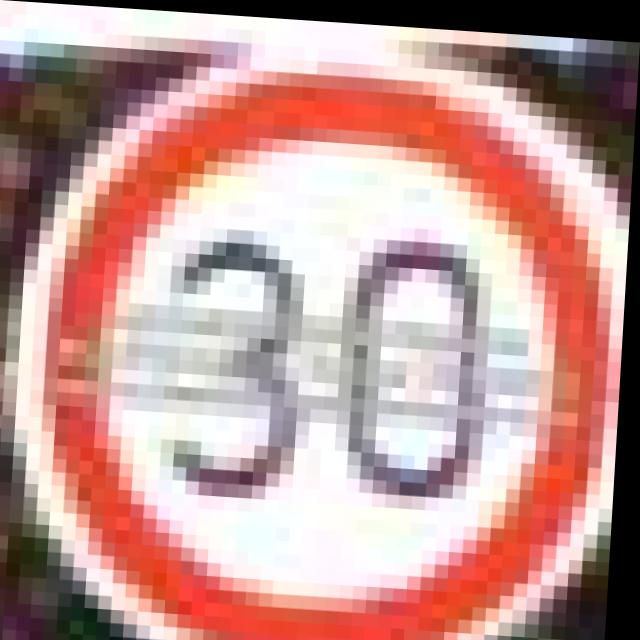SPEED_LIMIT_30: (0, 1, 640, 640)
